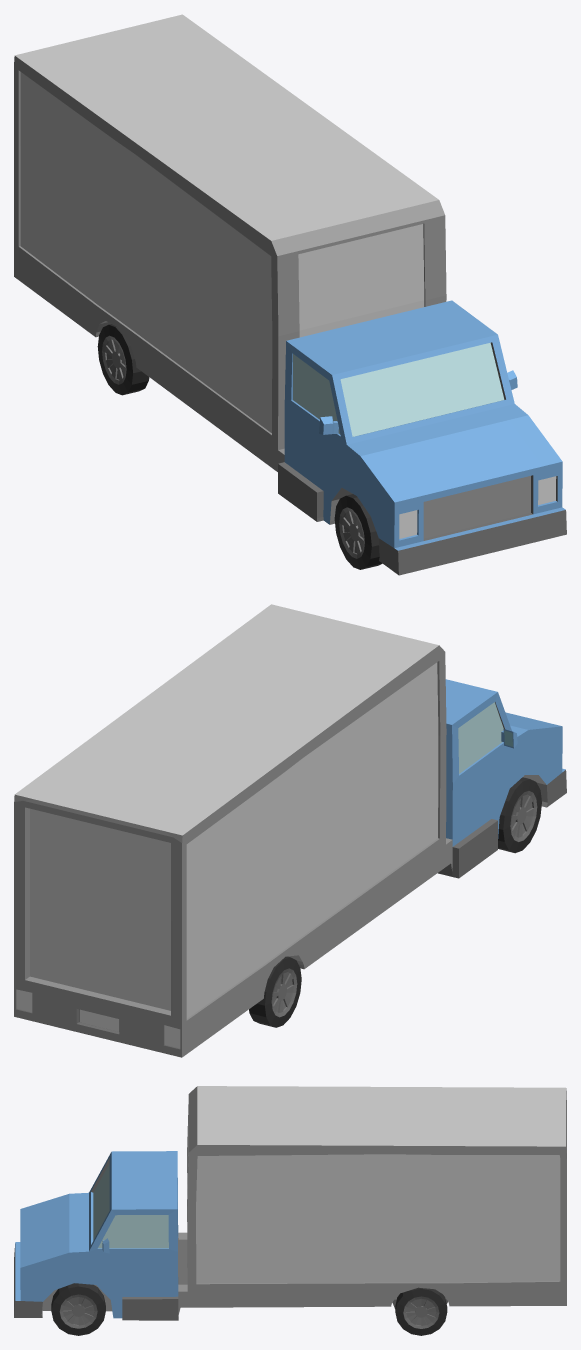
Rendered from truck.fbx.
3 renders of one model, top to bottom at view 1: azimuth 30°, elevation 25°; view 2: azimuth 150°, elevation 25°; view 3: azimuth 270°, elevation 25°, orthographic. The views are drawn at different scales.
Parts seen in each view (by area): view 1: Truck; view 2: Truck, Truck Back Door; view 3: Truck.
Part boxes in pixels (x1,y1,x2,y2): Truck: [14, 14, 566, 575]; Truck: [14, 604, 566, 1057]; Truck Back Door: [30, 808, 170, 1010]; Truck: [14, 1086, 566, 1335].
Size of the model in its own units: 1.31 by 4.48 by 1.71.
